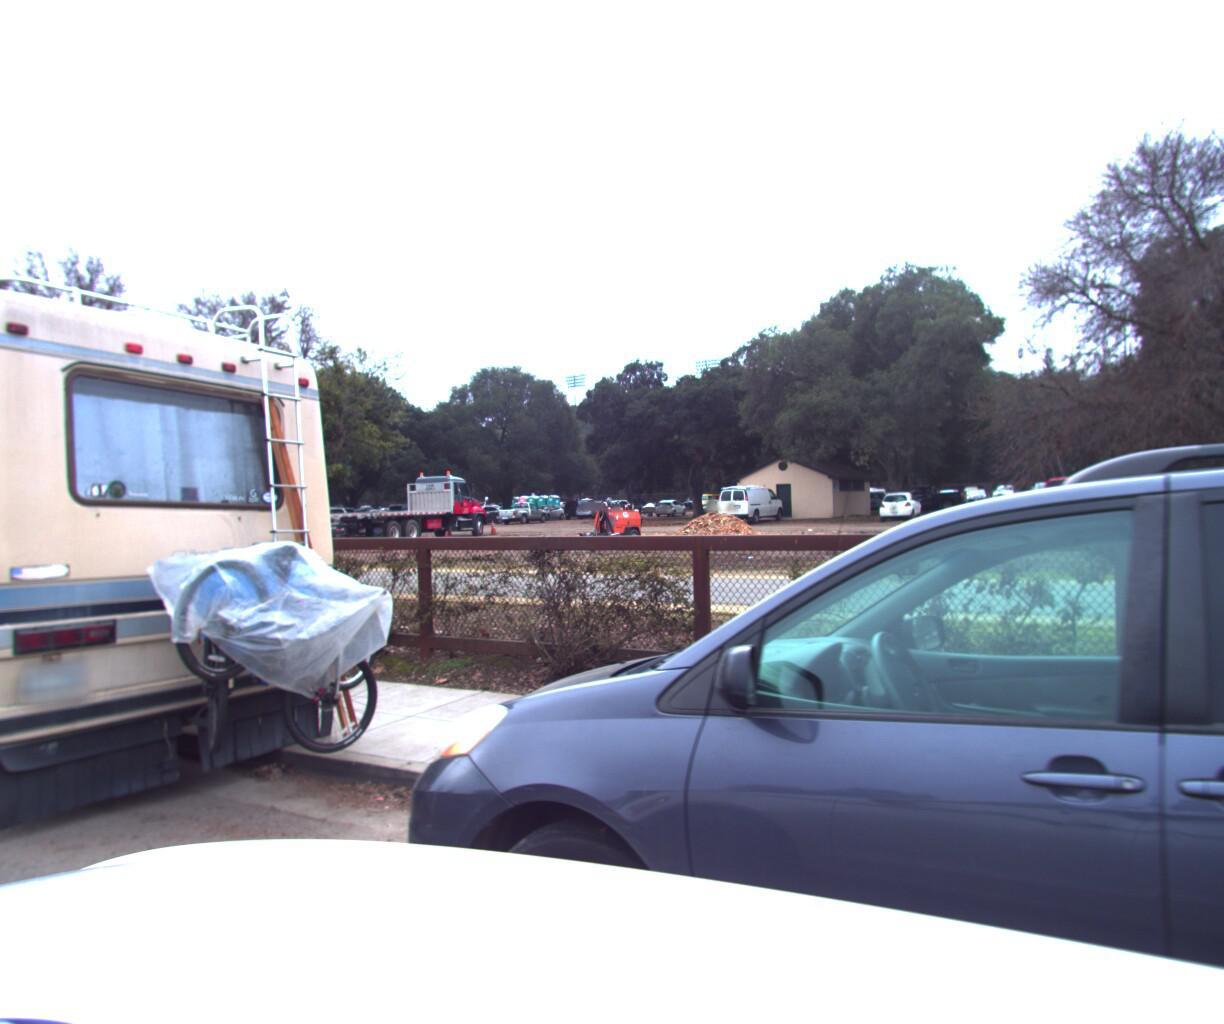car: (282, 0, 1224, 1024)
other_vehicle: (0, 185, 451, 900)
